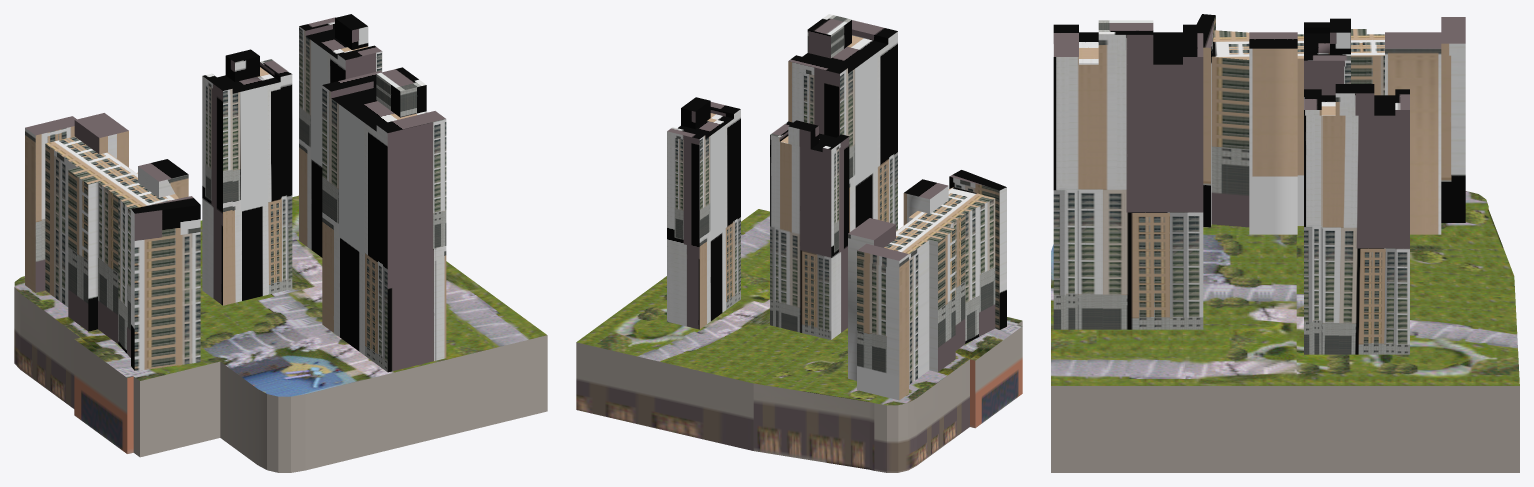
File: ICJ00101_D.glb
3 views of the same model, side by side, from view 1: azimuth 30°, elevation 25°; view 2: azimuth 150°, elevation 25°; view 3: azimuth 270°, elevation 25° (orthographic). The views are drawn at different scales.
Parts seen in each view (by area): view 1: MainBuilding; view 2: MainBuilding; view 3: MainBuilding.
Part boxes in pixels (left/top/right/bottom): MainBuilding: left=14, top=14, right=547, bottom=472; MainBuilding: left=576, top=14, right=1022, bottom=472; MainBuilding: left=1051, top=14, right=1519, bottom=472.
Bounding box in the file's own units: 3007 × 2687 × 2985.
Materials: 1 (1 with a texture image).
